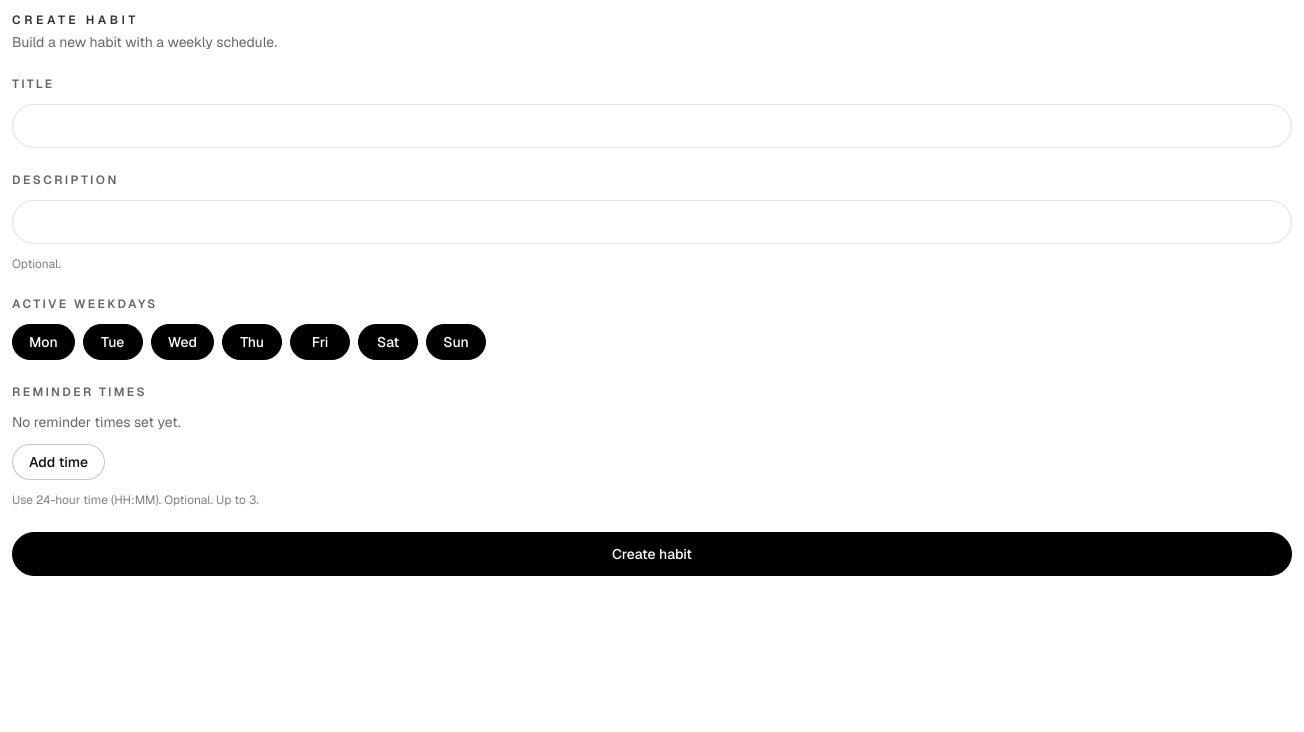
Test: HabitForm › requires a title
Step 1. Click the button "Create habit" → click(652, 554), box [12,532,1292,576]
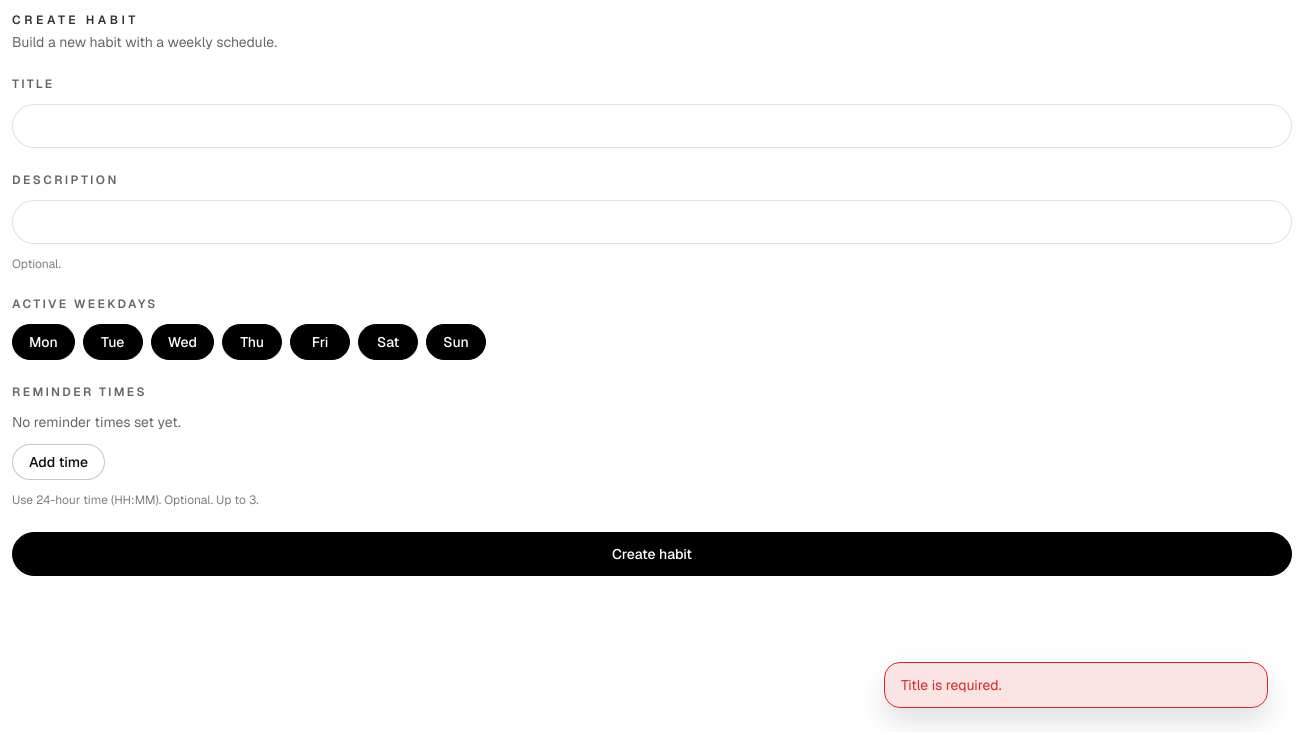
expect the text "Title is required." is shown: met, box [884,662,1268,708]
